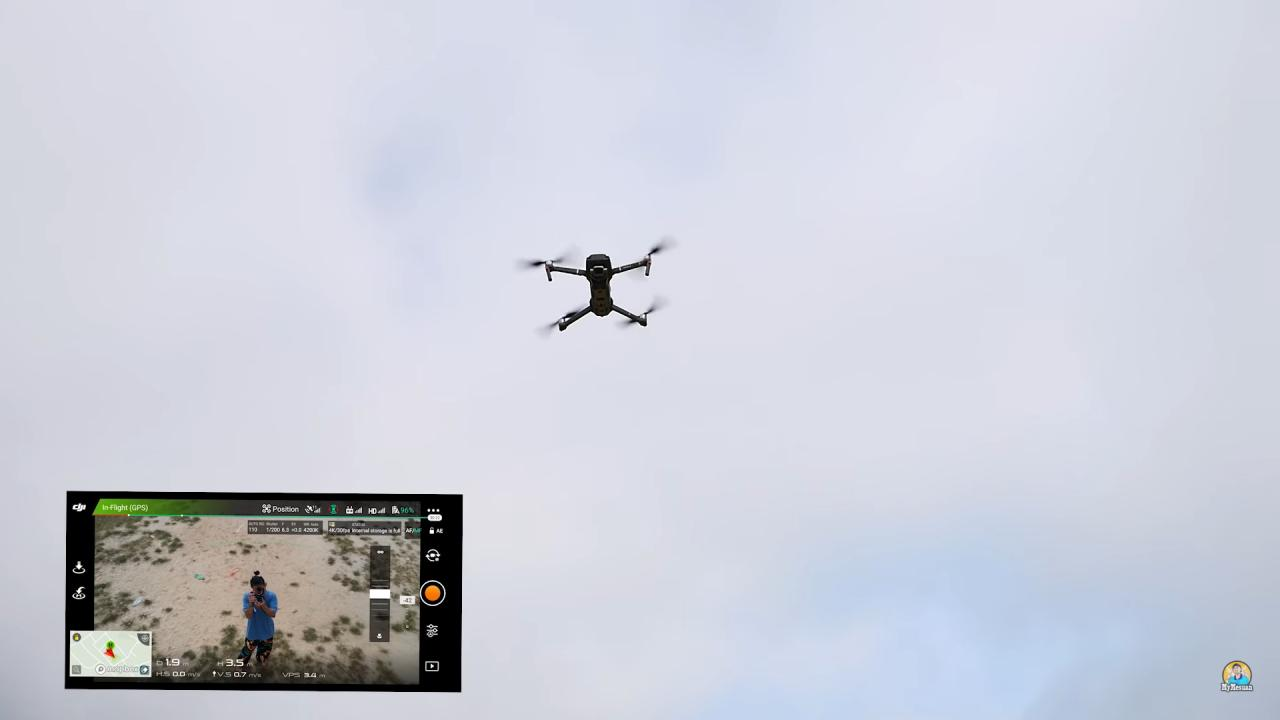Drone: (502, 221, 691, 350)
